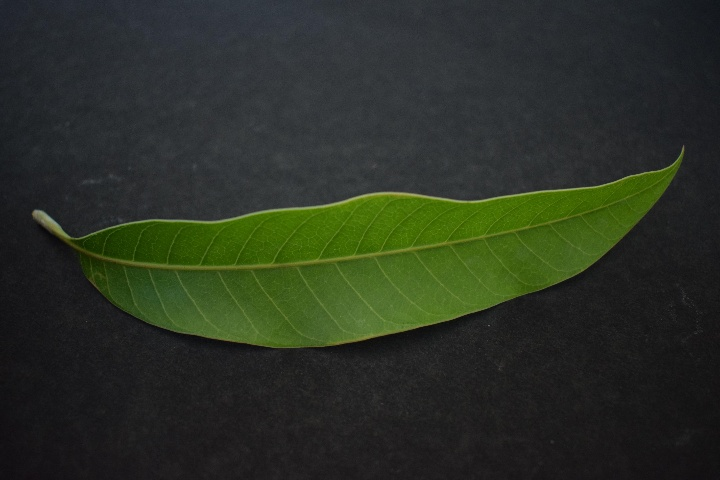healthy: (63, 148, 673, 345)
